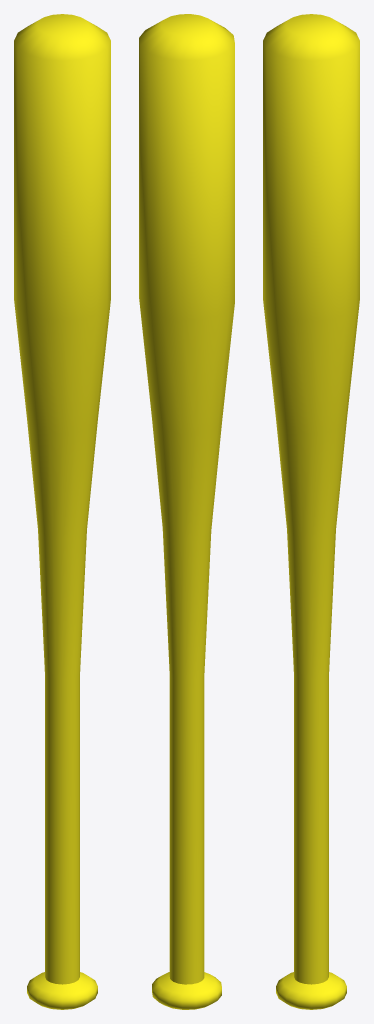
The model's file is bat.obj.
The picture shows the model from 3 angles, left to right: view 1: azimuth 90°, elevation 25°; view 2: azimuth 150°, elevation 25°; view 3: azimuth 270°, elevation 25°; orthographic projection.
Visible parts, largest first — view 1: default; view 2: default; view 3: default.
Boxes of the visible parts, x1,y1,x2,y2 form: default: (14,14,110,1009); default: (139,14,234,1009); default: (263,14,359,1009).
Bounding box in the file's own units: 0.9061 × 10.1 × 0.9061.
